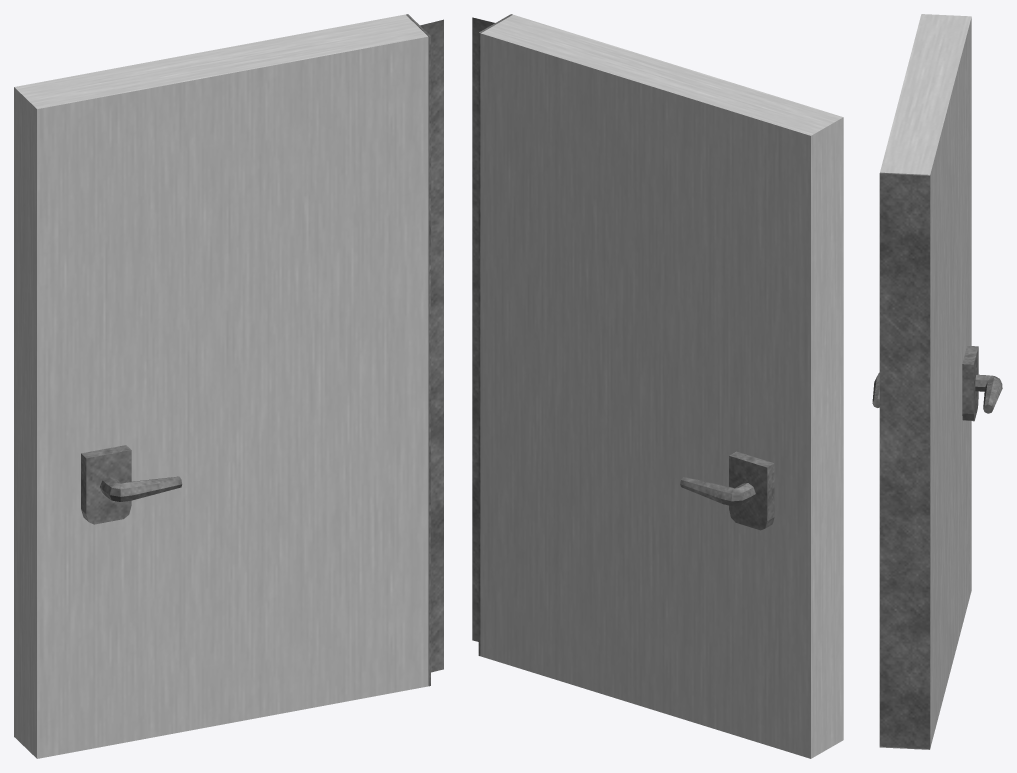
The model's file is door.glb.
The picture shows the model from 3 angles, left to right: view 1: azimuth 30°, elevation 25°; view 2: azimuth 150°, elevation 25°; view 3: azimuth 270°, elevation 25°; orthographic projection. The views are drawn at different scales.
Visible parts, largest first — view 1: Door-col, Frame-noimp, Handle2, Frame; view 2: Door-col, Frame-noimp, Handle1, Frame; view 3: Door-col, Frame, Handle1.
Part boxes in pixels (bbox=[...]): Door-col: bbox=[14, 14, 428, 758]; Frame-noimp: bbox=[420, 19, 443, 672]; Handle2: bbox=[81, 445, 182, 524]; Frame: bbox=[406, 14, 430, 686]; Door-col: bbox=[480, 14, 843, 758]; Frame-noimp: bbox=[472, 17, 494, 641]; Handle1: bbox=[680, 451, 774, 530]; Frame: bbox=[478, 14, 512, 656]; Door-col: bbox=[880, 14, 971, 747]; Frame: bbox=[879, 172, 930, 749]; Handle1: bbox=[962, 346, 1002, 421].
Bounding box in the file's own units: 1.6 × 2.5 × 0.5135.
2 materials, 2 textured.
